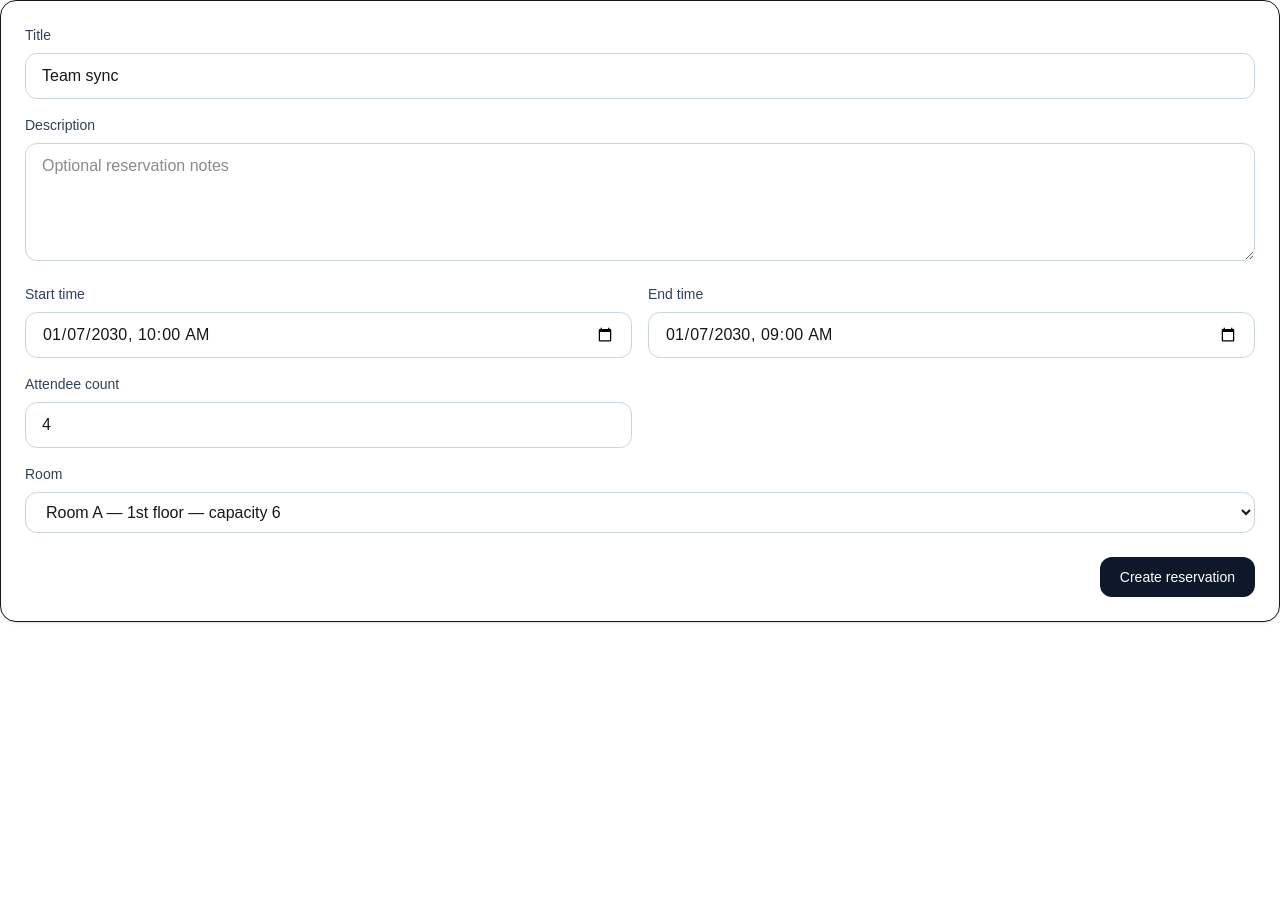
CreateReservationForm › rejects an end time before the start time
Click the button "Create reservation" at (1177, 577), box 1100,557 -> 1255,597
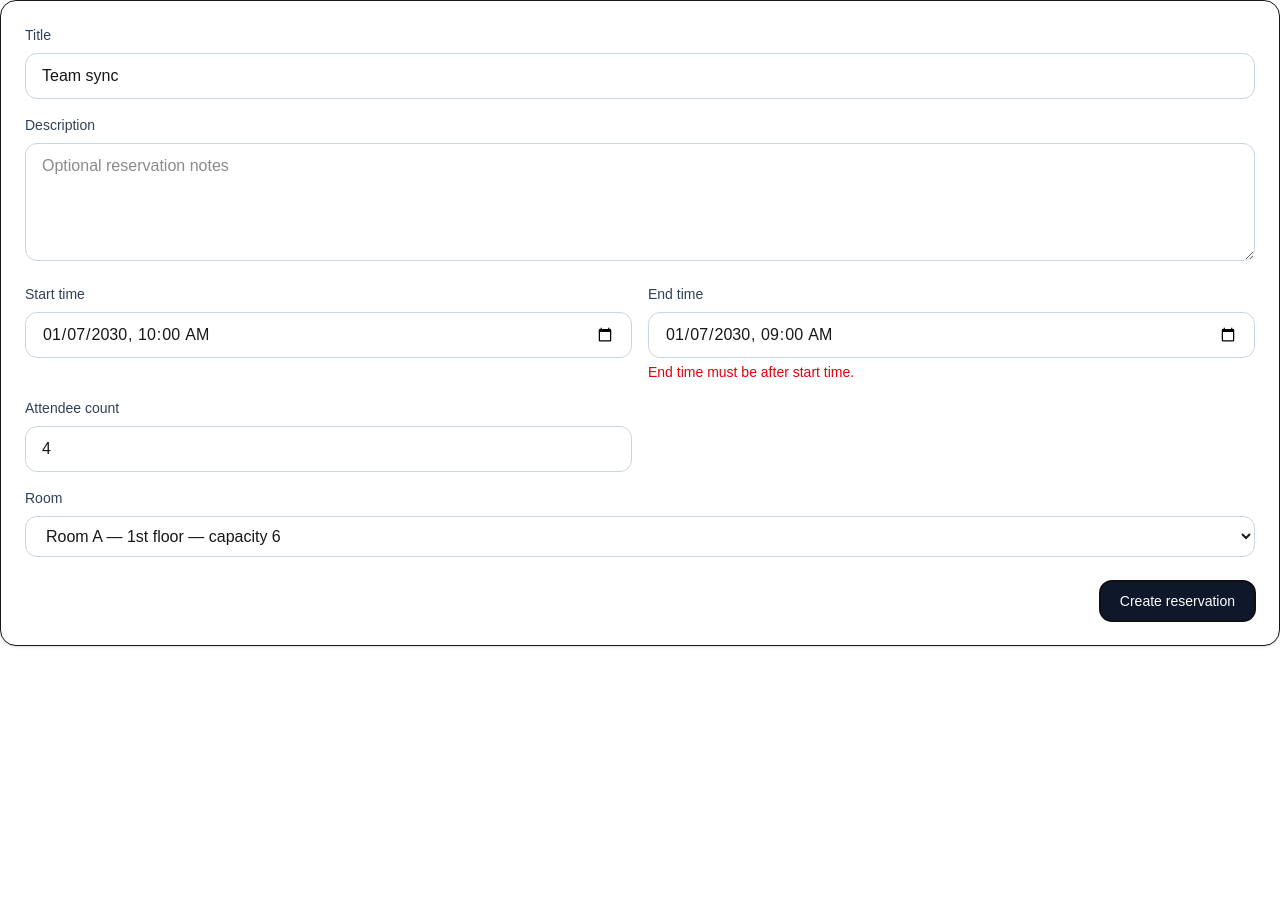
expect the text "End time must be after start time." is shown: met, box 648,364 -> 854,380
